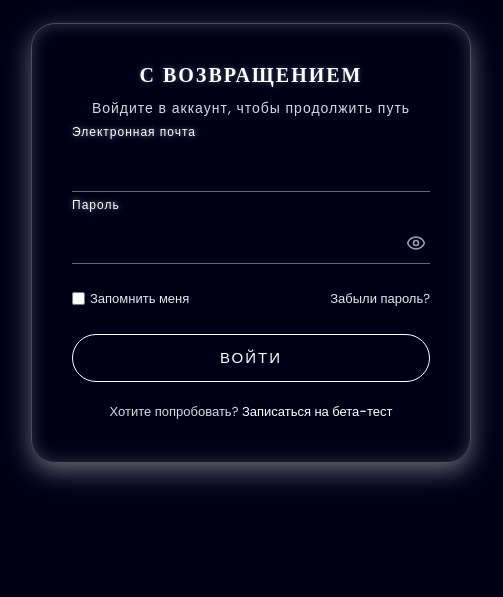
it: SignIn › shows server error on 500
This screenshot has width=503, height=597.
Type "user@example.com" into the field labelled "Электронная почта" at (251, 168), box [72,144,430,192]
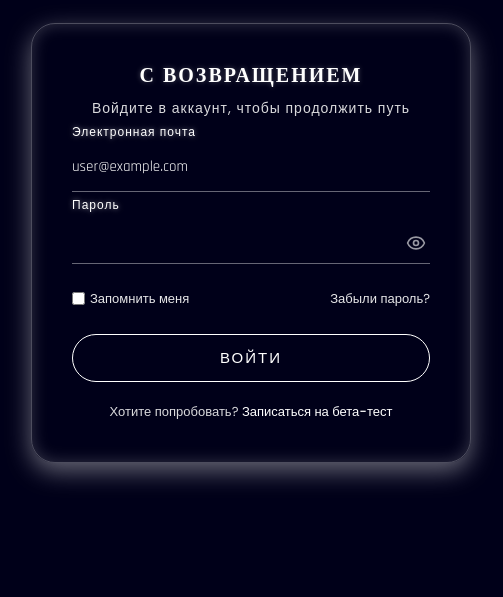
Type "pass1234" into the password field labelled "Пароль" at (251, 240), box [72,216,430,264]
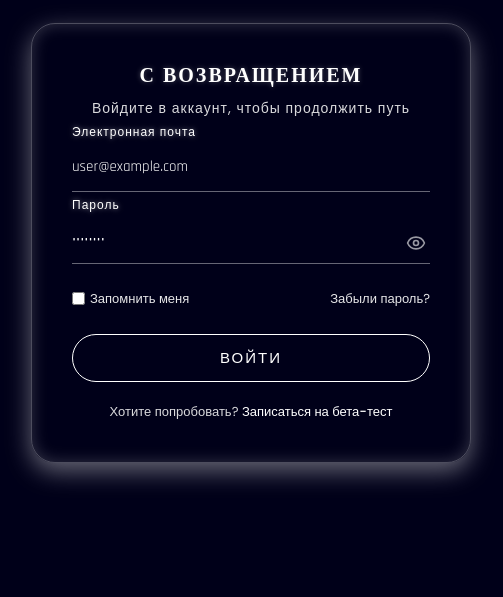
Submit the form labelled "Электронная почта", box [72,144,430,382]
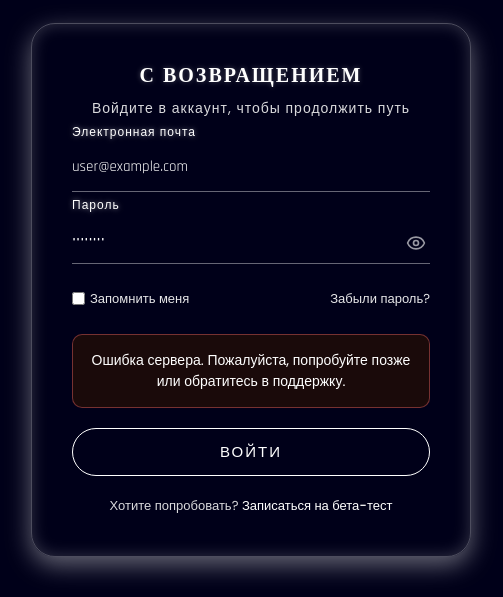
Check: the message "Ошибка сервера. Пожалуйста, попробуйте позже или обратитесь в поддержку." is shown, box [72,334,430,408]
